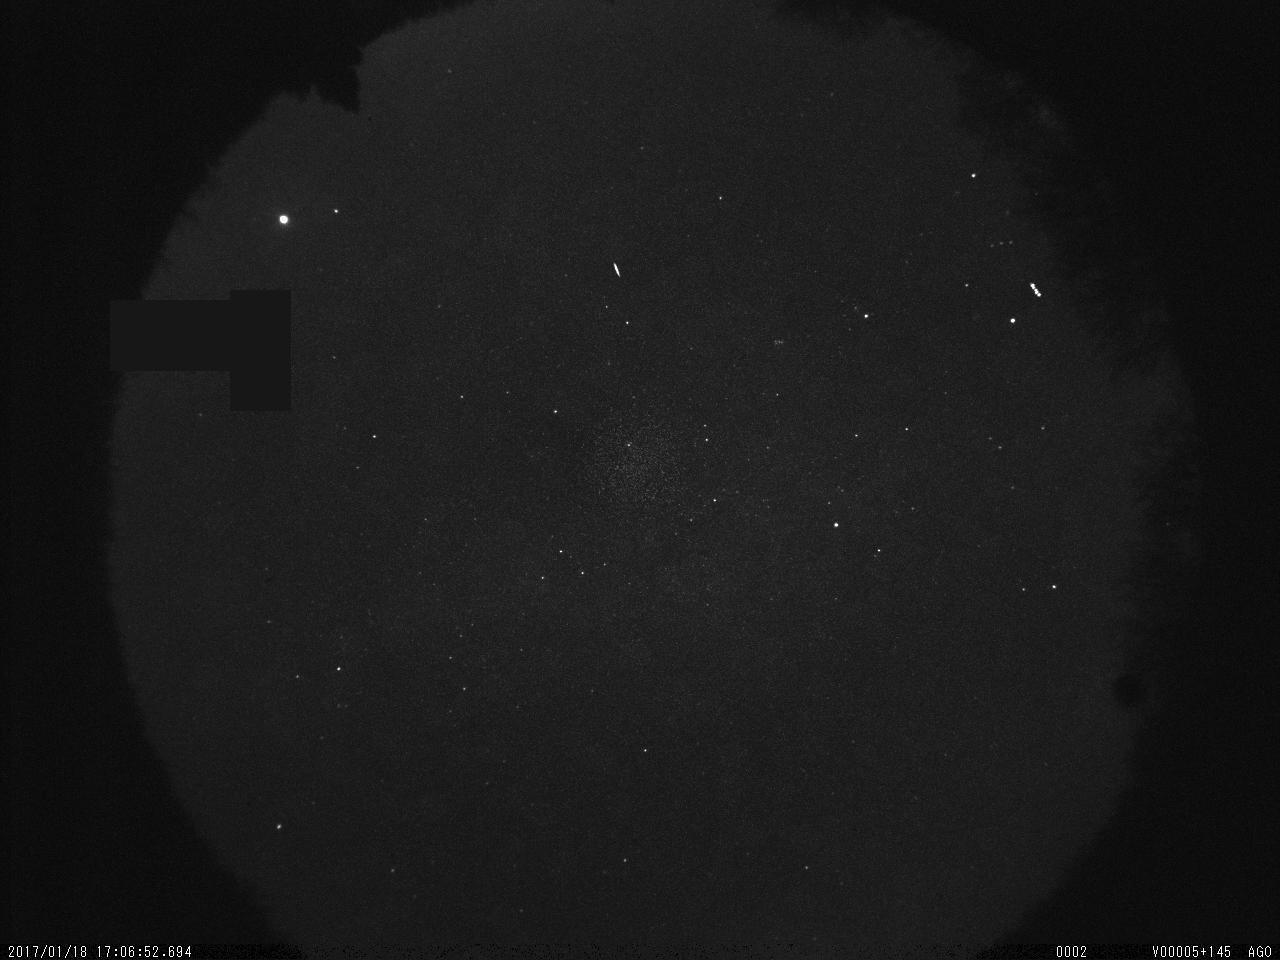meteor: (607, 254, 625, 280)
satelite: (1019, 274, 1050, 304)
